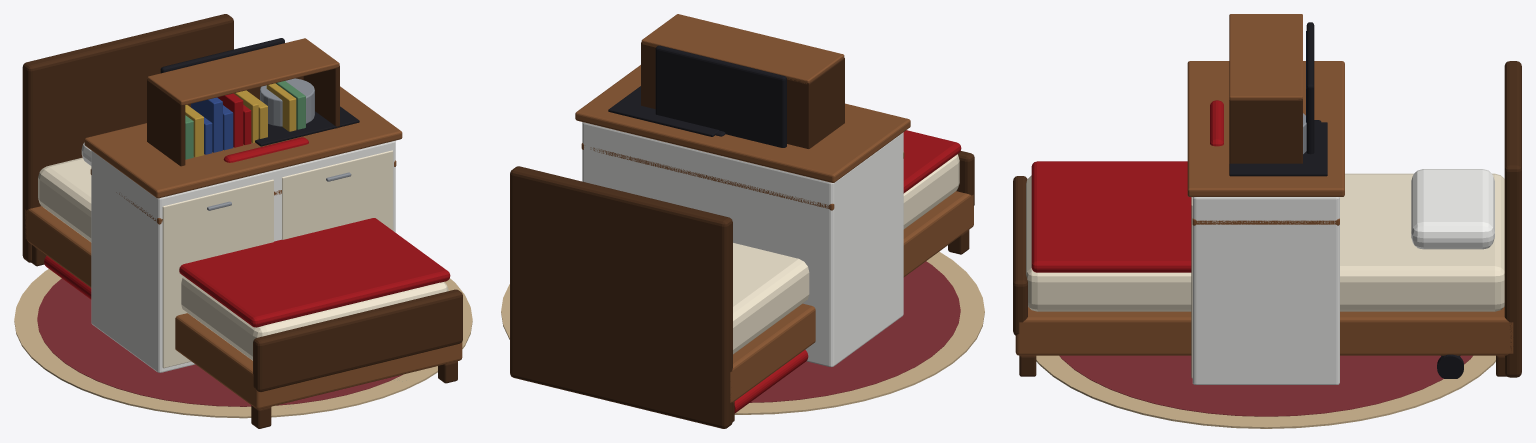
The model's file is props.glb.
3 renders of one model, left to right at view 1: azimuth 30°, elevation 25°; view 2: azimuth 150°, elevation 25°; view 3: azimuth 270°, elevation 25°, orthographic. The views are drawn at different scales.
Visible parts, largest first — view 1: bed, kitchen, rug, shelf, desk, chair, mat; view 2: bed, kitchen, rug, shelf, desk, mat; view 3: bed, kitchen, rug, shelf, desk, chair, mat.
Boxes of the visible parts, bbox=[...] form: bed: bbox=[22, 14, 462, 428]; kitchen: bbox=[84, 78, 402, 372]; rug: bbox=[14, 269, 472, 418]; shelf: bbox=[147, 38, 339, 166]; desk: bbox=[90, 38, 396, 224]; chair: bbox=[223, 137, 308, 162]; mat: bbox=[44, 256, 91, 299]; bed: bbox=[510, 130, 974, 428]; kitchen: bbox=[575, 65, 910, 366]; rug: bbox=[501, 251, 984, 414]; shelf: bbox=[641, 14, 844, 148]; desk: bbox=[581, 45, 904, 210]; mat: bbox=[734, 350, 808, 413]; bed: bbox=[1013, 61, 1521, 377]; kitchen: bbox=[1187, 61, 1344, 384]; rug: bbox=[1036, 355, 1495, 428]; shelf: bbox=[1229, 14, 1302, 163]; desk: bbox=[1192, 22, 1339, 225]; chair: bbox=[1210, 100, 1223, 146]; mat: bbox=[1437, 354, 1463, 378].
Size of the model in its own units: 2 by 1.22 by 2.07.
